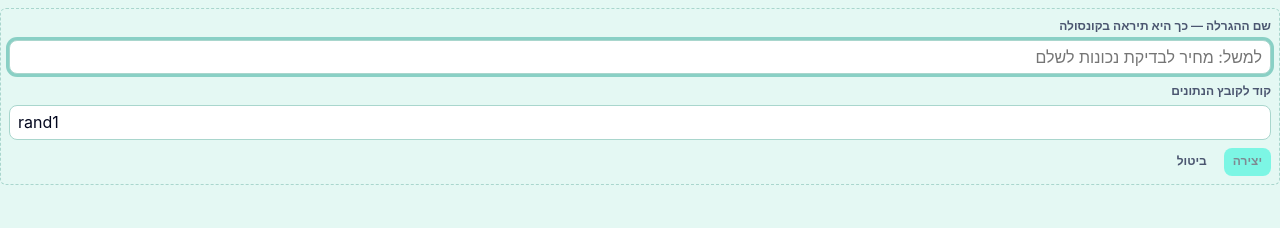
Scenario: DefineForm › refuses a code that is not a plain English analysis code
Type "מחיר" into the field labelled "שם ההגרלה — כך היא תיראה בקונסולה" at (640, 57), box [9,40,1271,74]
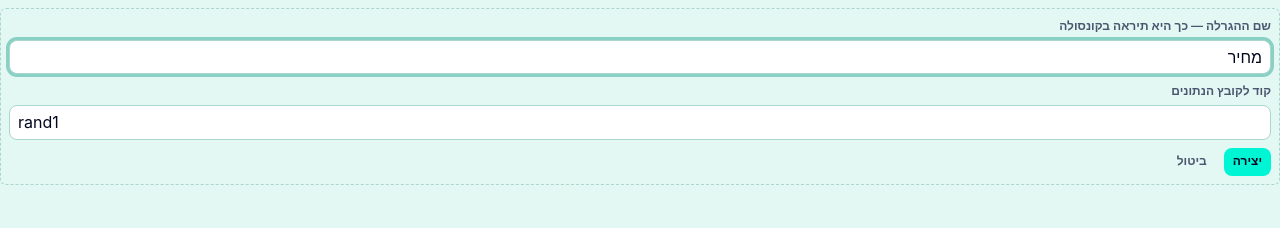
Replace the text in the field labelled "קוד לקובץ הנתונים" with "1price" at (640, 122), box [9,105,1271,140]
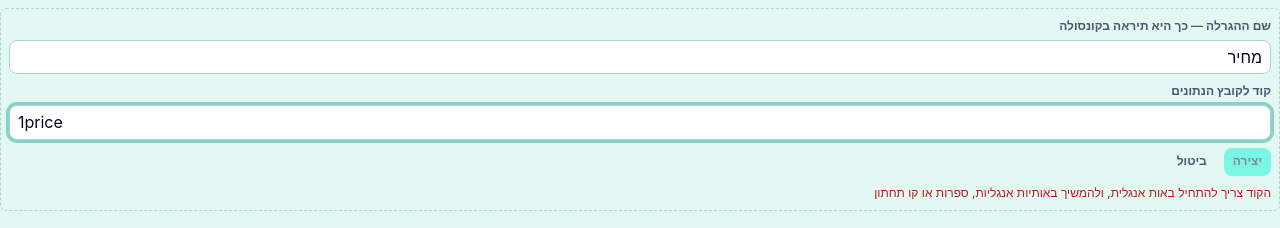
Result: the button "יצירה" is disabled at [1224,148,1271,176]
Replace the text in the field labelled "קוד לקובץ הנתונים" with "price-1" at (640, 122), box [9,105,1271,140]
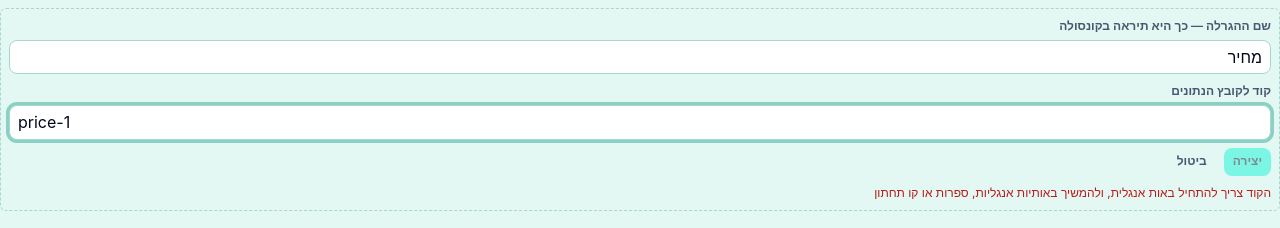
Result: the button "יצירה" is disabled at [1224,148,1271,176]
Replace the text in the field labelled "קוד לקובץ הנתונים" with "מחיר" at (640, 122), box [9,105,1271,140]
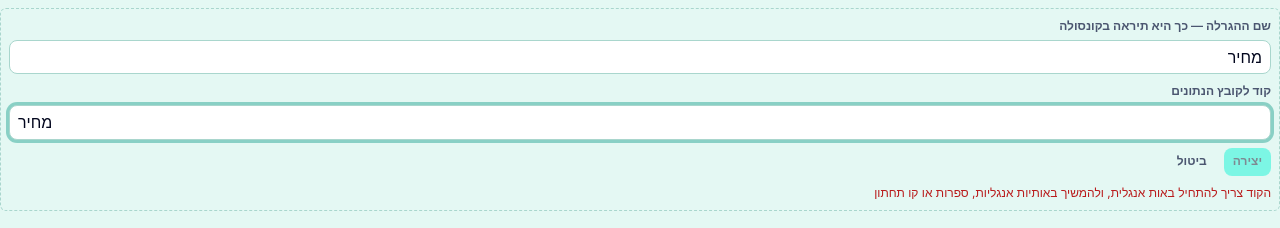
Result: the button "יצירה" is disabled at [1224,148,1271,176]
Replace the text in the field labelled "קוד לקובץ הנתונים" with "price_2" at (640, 122), box [9,105,1271,140]
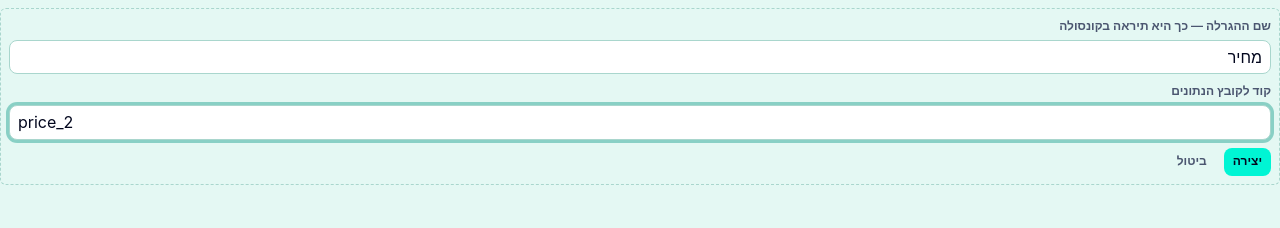
Result: the button "יצירה" is enabled at [1224,148,1271,176]
